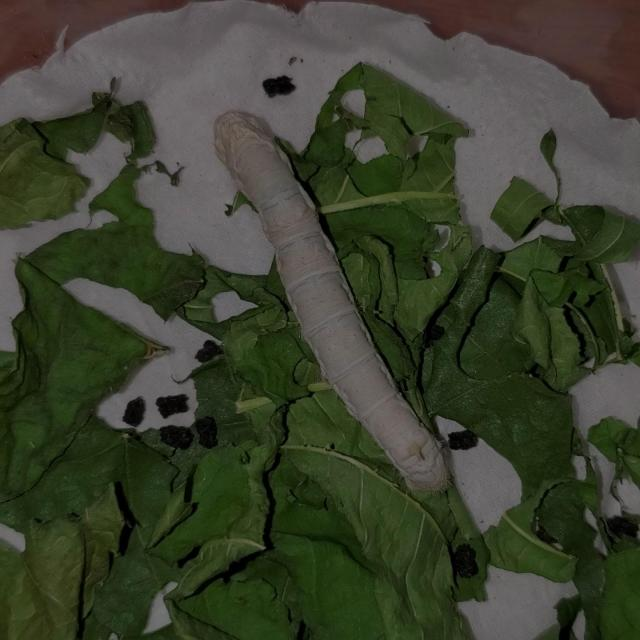Healthy: (207, 101, 456, 505)
